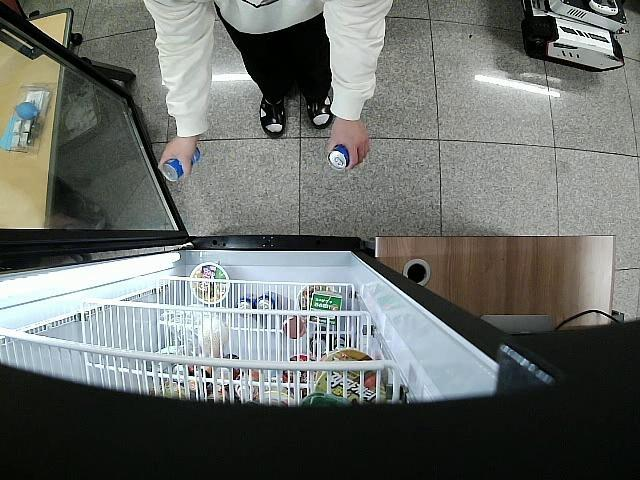15_letsbe: (162, 146, 200, 182), (328, 144, 352, 171)
